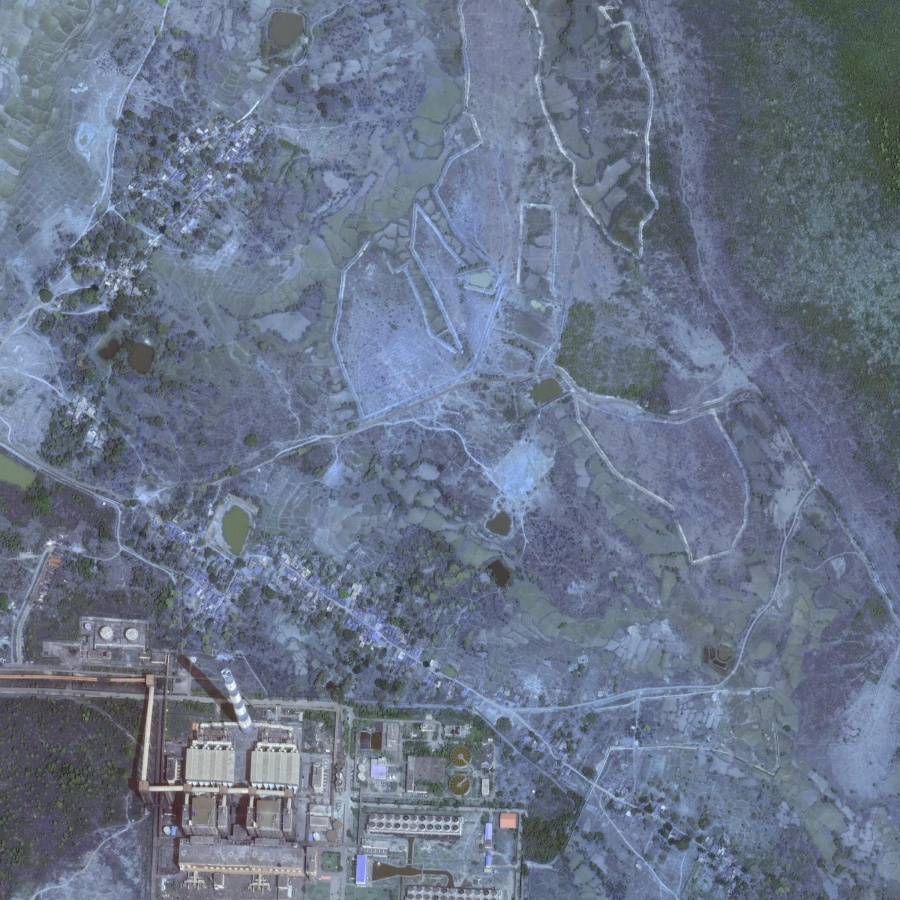PowerPlant: (152, 629, 306, 762)
